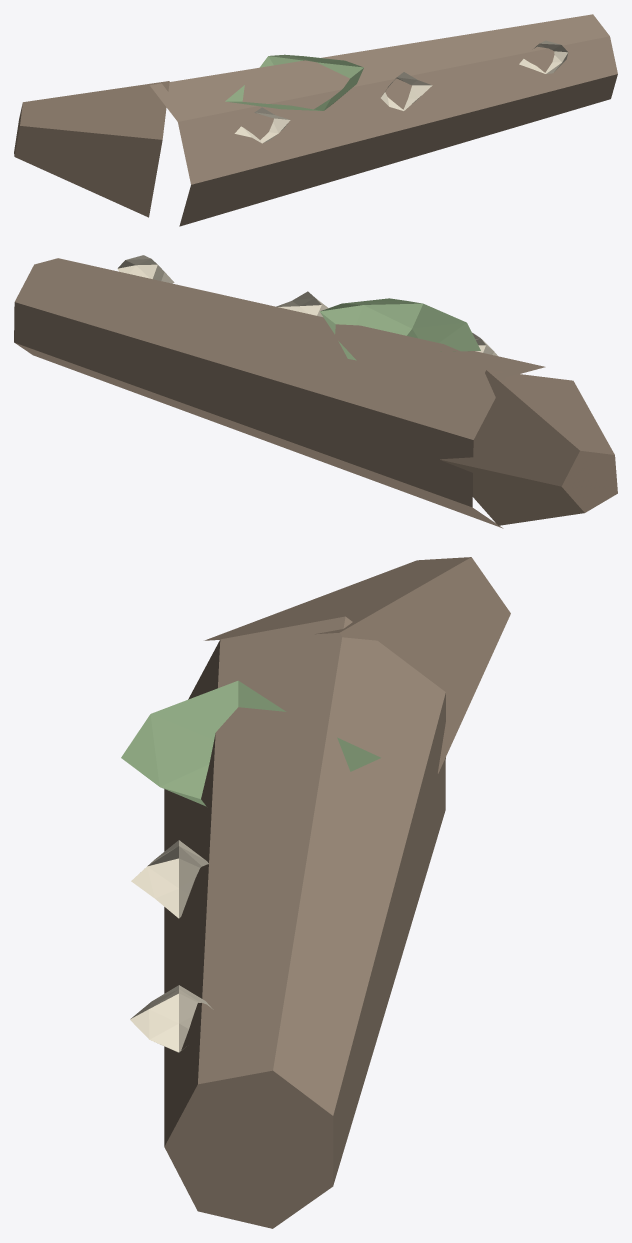
Rendered from log_v31.glb.
3 renders of one model, top to bottom at view 1: azimuth 30°, elevation 25°; view 2: azimuth 150°, elevation 25°; view 3: azimuth 270°, elevation 25°, orthographic. The views are drawn at different scales.
Visible parts, largest first — view 1: lod0; view 2: lod0; view 3: lod0.
Boxes of the visible parts, x1=… form: lod0: x1=14, y1=14, x2=617, y2=226; lod0: x1=14, y1=255, x2=617, y2=528; lod0: x1=121, y1=557, x2=510, y2=1228.
Size of what is drawn, in the model's own units: 2.71 by 0.7078 by 0.8419.
